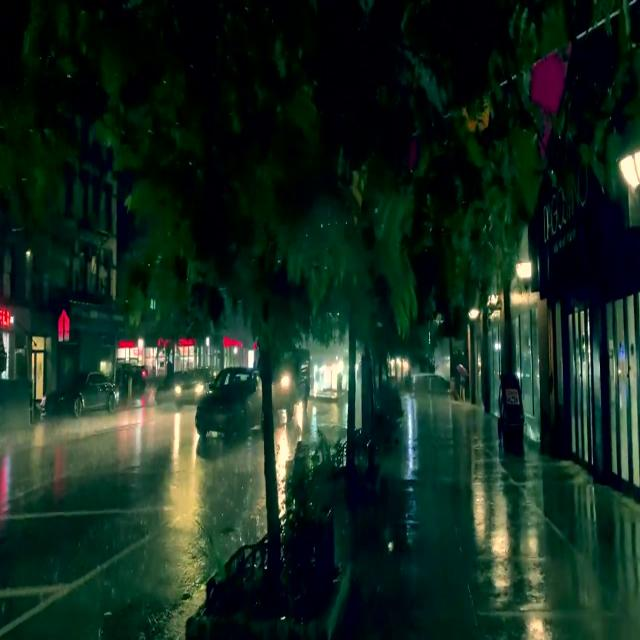Car: (194, 368, 261, 442), (56, 369, 115, 418), (171, 371, 202, 401)
